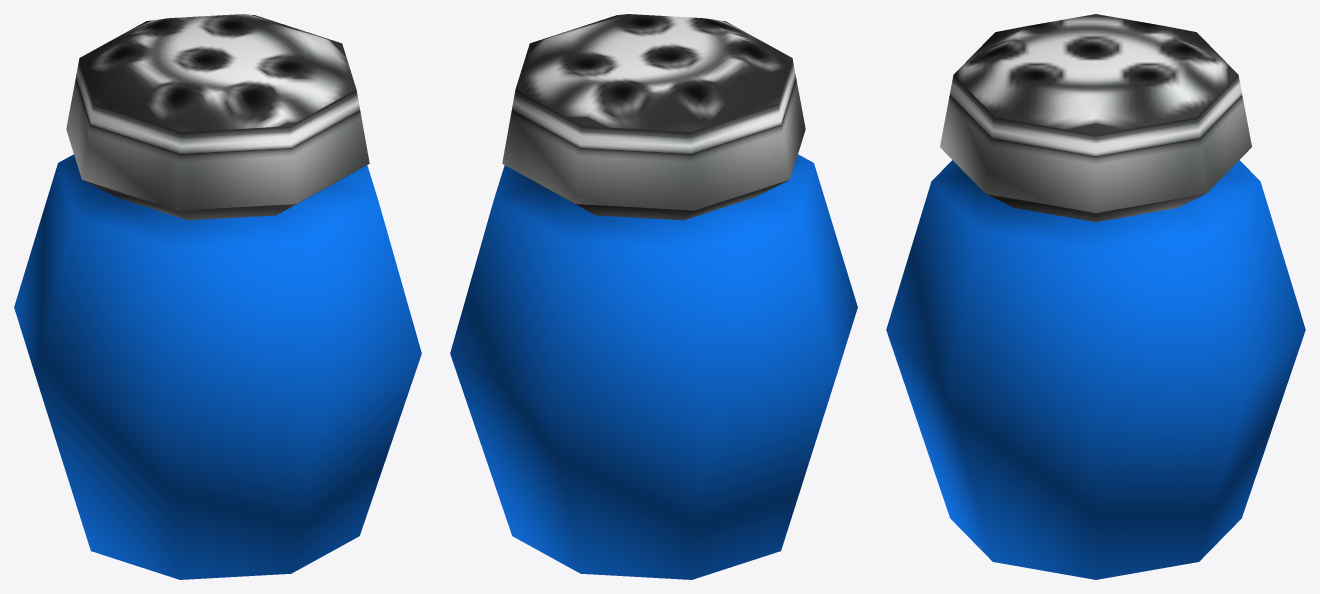
File: Shaker_E.FBX
3 views of the same model, side by side, from view 1: azimuth 30°, elevation 25°; view 2: azimuth 150°, elevation 25°; view 3: azimuth 270°, elevation 25° (orthographic).
Visible parts, largest first — view 1: Shaker; view 2: Shaker; view 3: Shaker.
Boxes of the visible parts, <box> form: Shaker: <box>14,14,421,579</box>; Shaker: <box>450,14,857,579</box>; Shaker: <box>886,14,1305,579</box>.
Bounding box in the file's own units: 22.58 × 27.47 × 22.58.
